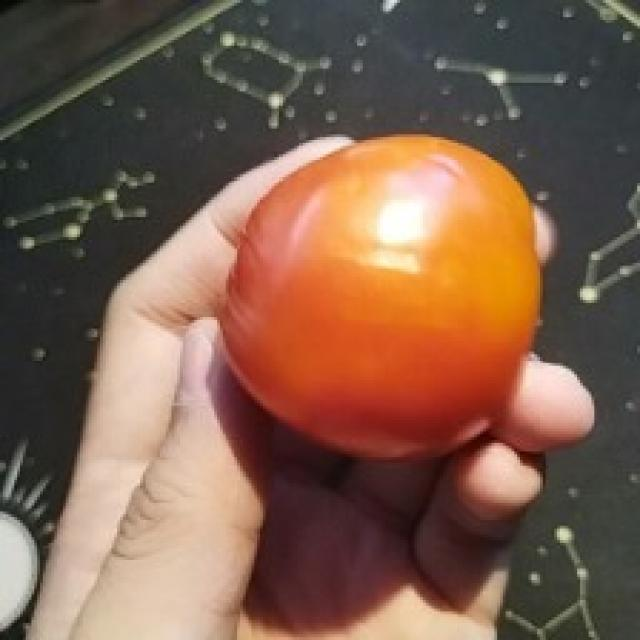Fresh Tomato: (202, 110, 564, 462)
